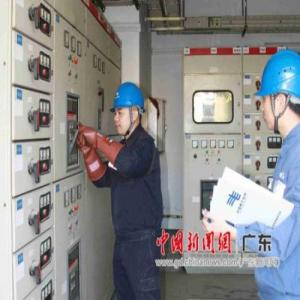blue: (258, 48, 300, 138), (112, 80, 146, 140)
